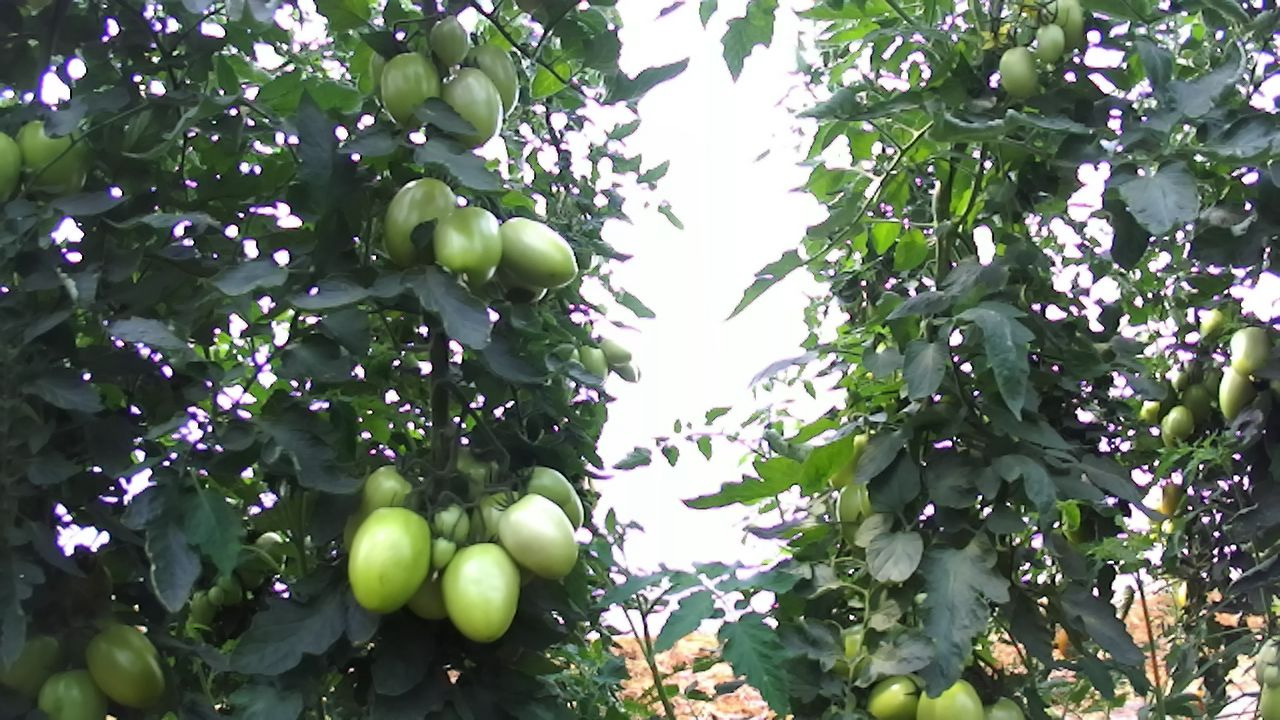tomato: (433, 535, 526, 650), (343, 503, 434, 618), (375, 169, 463, 276), (491, 487, 582, 584), (82, 617, 173, 714), (424, 198, 508, 298), (434, 58, 510, 155), (495, 213, 579, 291), (373, 47, 441, 130), (463, 38, 529, 121), (34, 660, 116, 720), (911, 671, 990, 720), (861, 669, 926, 720), (993, 43, 1043, 100), (1036, 0, 1086, 54), (1228, 323, 1274, 380), (427, 12, 470, 67), (429, 498, 472, 549), (1164, 402, 1197, 445), (1034, 21, 1067, 64), (427, 533, 458, 574)
